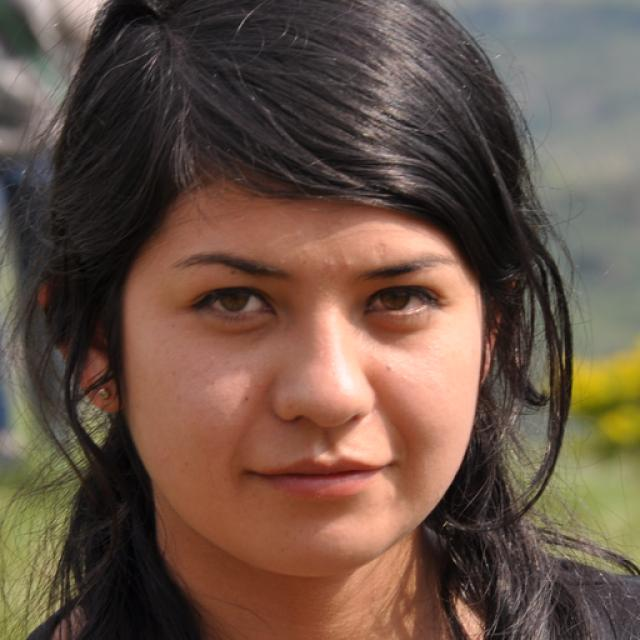Acne: (338, 258, 358, 276), (320, 259, 338, 275)
